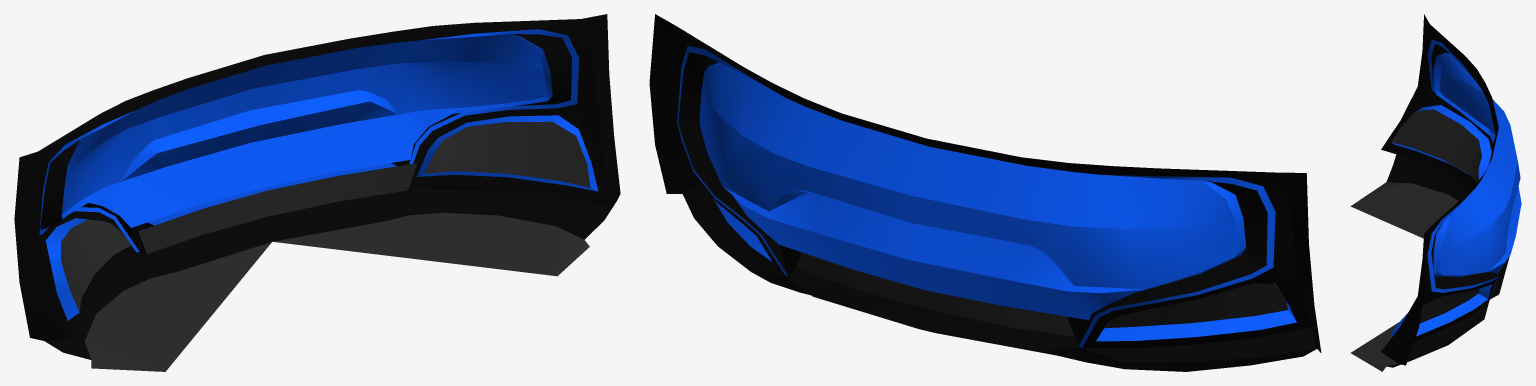
Rendered from Sport_07_Bumper_B_2.fbx.
The picture shows the model from 3 angles, left to right: view 1: azimuth 30°, elevation 25°; view 2: azimuth 150°, elevation 25°; view 3: azimuth 270°, elevation 25°; orthographic projection. The views are drawn at different scales.
Visible parts, largest first — view 1: Sport_07_Bumper_B_2; view 2: Sport_07_Bumper_B_2; view 3: Sport_07_Bumper_B_2.
Boxes of the visible parts, left/top/right/bottom form: Sport_07_Bumper_B_2: left=14, top=14, right=620, bottom=371; Sport_07_Bumper_B_2: left=649, top=14, right=1321, bottom=371; Sport_07_Bumper_B_2: left=1350, top=14, right=1521, bottom=371.
Size of the model in its own units: 178 by 58.07 by 57.85.
